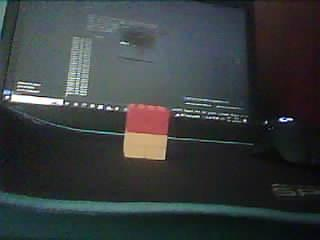lego: (123, 102, 170, 160)
